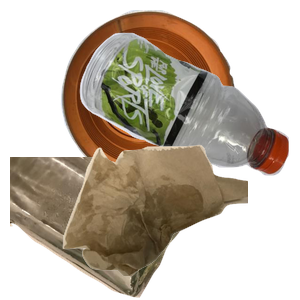glass: (10, 157, 190, 300)
metal: (58, 10, 289, 186)
plastic: (77, 30, 300, 198)
trash: (60, 142, 300, 300)
